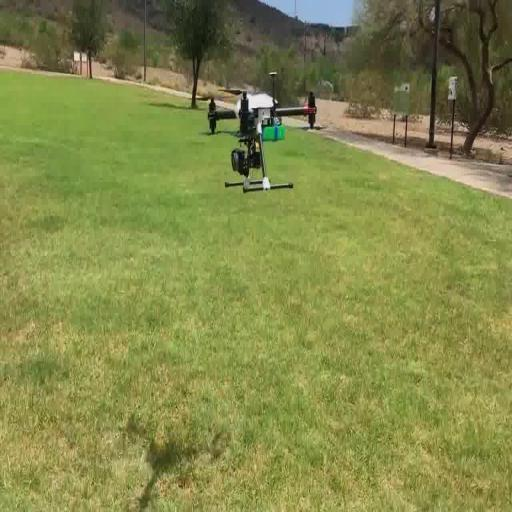drone: (193, 70, 328, 194)
